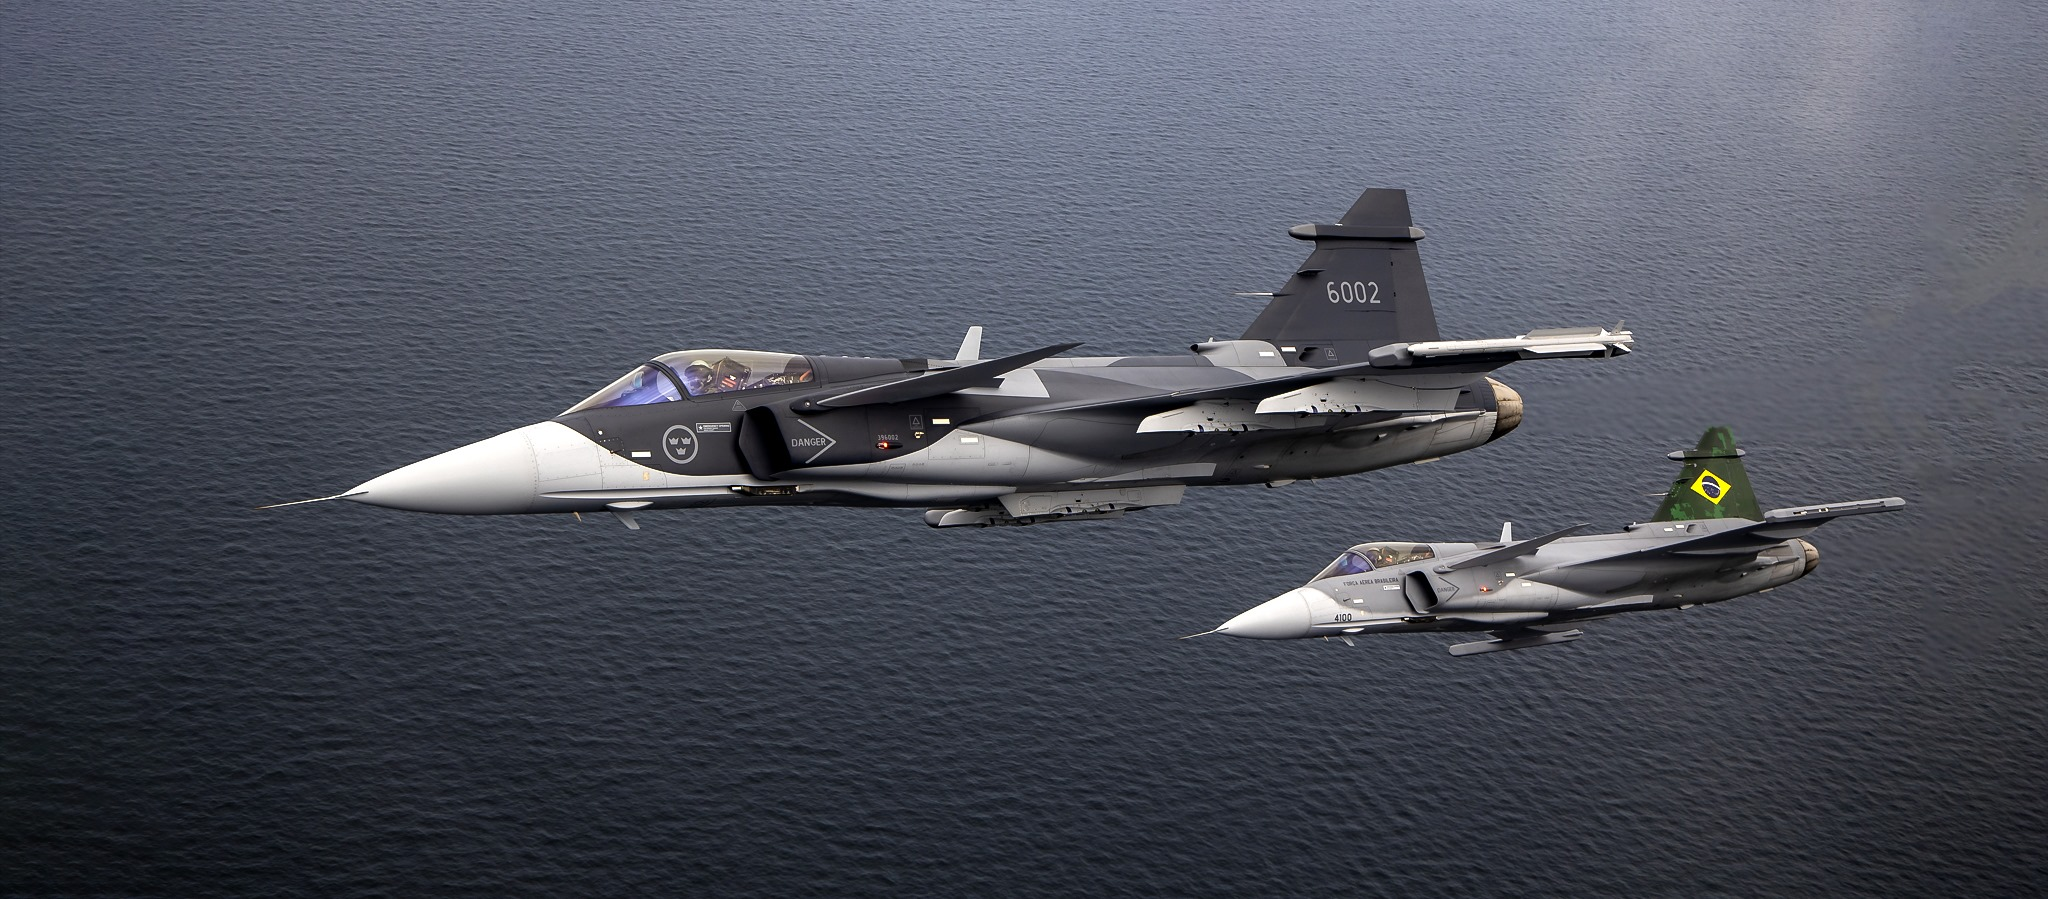JAS39: (251, 188, 1634, 531), (1178, 423, 1906, 657)
